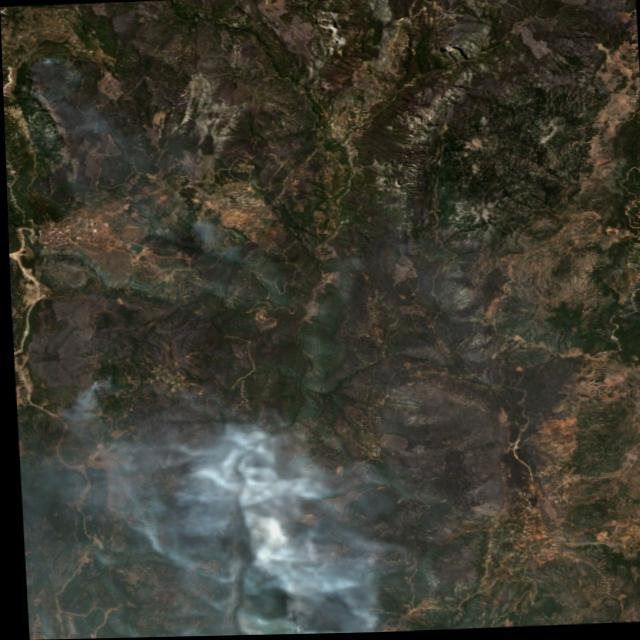fire: (213, 517, 318, 637), (67, 355, 128, 404), (167, 206, 228, 248)
